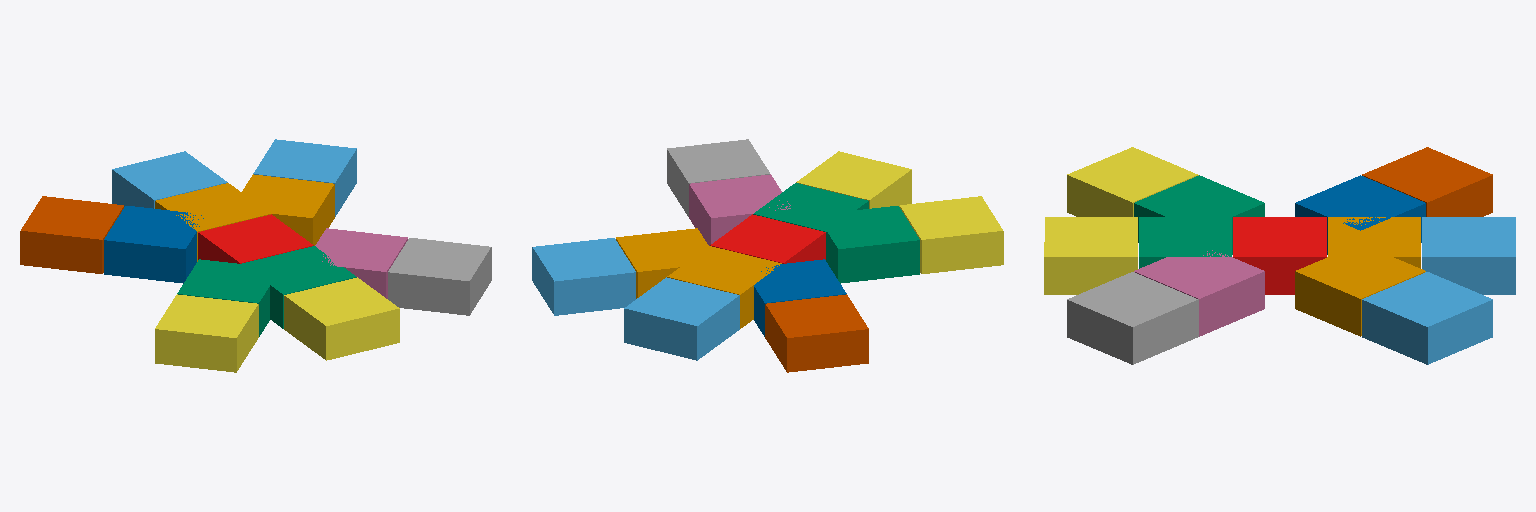
The robot description file, URDF, robot "rob":
<?xml version='1.0' encoding='UTF-8'?>
<robot name="rob">
  <link name="set1_arm1">
    <inertial>
      <origin xyz="0.0 0.34 0.0" rpy="0.0 0.0 0.0"/>
      <mass value="1.0"/>
      <inertia ixx="0.0" ixy="0.0" ixz="0.0" iyy="0.0" iyz="0.0" izz="0.0"/>
    </inertial>
    <visual>
      <geometry>
        <box size="0.67 0.67 0.3 "/>
      </geometry>
      <origin xyz="0.0 0.34 0.0" rpy="0.0 0.0 0.0"/>
    </visual>
    <collision>
      <geometry>
        <box size="0.67 0.67 0.3 "/>
      </geometry>
      <origin xyz="0.0 0.34 0.0" rpy="0.0 0.0 0.0"/>
    </collision>
  </link>
  <link name="set1_arm2">
    <inertial>
      <origin xyz="0.0 0.34 0.0" rpy="0.0 0.0 0.0"/>
      <mass value="1.0"/>
      <inertia ixx="0.0" ixy="0.0" ixz="0.0" iyy="0.0" iyz="0.0" izz="0.0"/>
    </inertial>
    <visual>
      <geometry>
        <box size="0.67 0.67 0.3 "/>
      </geometry>
      <origin xyz="0.0 0.34 0.0" rpy="0.0 0.0 0.0"/>
    </visual>
    <collision>
      <geometry>
        <box size="0.67 0.67 0.3 "/>
      </geometry>
      <origin xyz="0.0 0.34 0.0" rpy="0.0 0.0 0.0"/>
    </collision>
  </link>
  <link name="set2_arm1">
    <inertial>
      <origin xyz="0.0 0.34 0.0" rpy="0.0 0.0 0.0"/>
      <mass value="1.0"/>
      <inertia ixx="0.0" ixy="0.0" ixz="0.0" iyy="0.0" iyz="0.0" izz="0.0"/>
    </inertial>
    <visual>
      <geometry>
        <box size="0.67 0.67 0.3 "/>
      </geometry>
      <origin xyz="0.0 0.34 0.0" rpy="0.0 0.0 0.0"/>
    </visual>
    <collision>
      <geometry>
        <box size="0.67 0.67 0.3 "/>
      </geometry>
      <origin xyz="0.0 0.34 0.0" rpy="0.0 0.0 0.0"/>
    </collision>
  </link>
  <link name="set2_arm2">
    <inertial>
      <origin xyz="0.0 0.34 0.0" rpy="0.0 0.0 0.0"/>
      <mass value="1.0"/>
      <inertia ixx="0.0" ixy="0.0" ixz="0.0" iyy="0.0" iyz="0.0" izz="0.0"/>
    </inertial>
    <visual>
      <geometry>
        <box size="0.67 0.67 0.3 "/>
      </geometry>
      <origin xyz="0.0 0.34 0.0" rpy="0.0 0.0 0.0"/>
    </visual>
    <collision>
      <geometry>
        <box size="0.67 0.67 0.3 "/>
      </geometry>
      <origin xyz="0.0 0.34 0.0" rpy="0.0 0.0 0.0"/>
    </collision>
  </link>
  <link name="set5_arm1">
    <inertial>
      <origin xyz="0.0 0.34 0.0" rpy="0.0 0.0 0.0"/>
      <mass value="1.0"/>
      <inertia ixx="0.0" ixy="0.0" ixz="0.0" iyy="0.0" iyz="0.0" izz="0.0"/>
    </inertial>
    <visual>
      <geometry>
        <box size="0.67 0.67 0.3 "/>
      </geometry>
      <origin xyz="0.0 0.34 0.0" rpy="0.0 0.0 0.0"/>
    </visual>
    <collision>
      <geometry>
        <box size="0.67 0.67 0.3 "/>
      </geometry>
      <origin xyz="0.0 0.34 0.0" rpy="0.0 0.0 0.0"/>
    </collision>
  </link>
  <link name="set5_arm2">
    <inertial>
      <origin xyz="0.0 0.34 0.0" rpy="0.0 0.0 0.0"/>
      <mass value="1.0"/>
      <inertia ixx="0.0" ixy="0.0" ixz="0.0" iyy="0.0" iyz="0.0" izz="0.0"/>
    </inertial>
    <visual>
      <geometry>
        <box size="0.67 0.67 0.3 "/>
      </geometry>
      <origin xyz="0.0 0.34 0.0" rpy="0.0 0.0 0.0"/>
    </visual>
    <collision>
      <geometry>
        <box size="0.67 0.67 0.3 "/>
      </geometry>
      <origin xyz="0.0 0.34 0.0" rpy="0.0 0.0 0.0"/>
    </collision>
  </link>
  <link name="set6_arm1">
    <inertial>
      <origin xyz="0.0 0.34 0.0" rpy="0.0 0.0 0.0"/>
      <mass value="1.0"/>
      <inertia ixx="0.0" ixy="0.0" ixz="0.0" iyy="0.0" iyz="0.0" izz="0.0"/>
    </inertial>
    <visual>
      <geometry>
        <box size="0.67 0.67 0.3 "/>
      </geometry>
      <origin xyz="0.0 0.34 0.0" rpy="0.0 0.0 0.0"/>
    </visual>
    <collision>
      <geometry>
        <box size="0.67 0.67 0.3 "/>
      </geometry>
      <origin xyz="0.0 0.34 0.0" rpy="0.0 0.0 0.0"/>
    </collision>
  </link>
  <link name="set6_arm2">
    <inertial>
      <origin xyz="0.0 0.34 0.0" rpy="0.0 0.0 0.0"/>
      <mass value="1.0"/>
      <inertia ixx="0.0" ixy="0.0" ixz="0.0" iyy="0.0" iyz="0.0" izz="0.0"/>
    </inertial>
    <visual>
      <geometry>
        <box size="0.67 0.67 0.3 "/>
      </geometry>
      <origin xyz="0.0 0.34 0.0" rpy="0.0 0.0 0.0"/>
    </visual>
    <collision>
      <geometry>
        <box size="0.67 0.67 0.3 "/>
      </geometry>
      <origin xyz="0.0 0.34 0.0" rpy="0.0 0.0 0.0"/>
    </collision>
  </link>
  <link name="set7_arm1">
    <inertial>
      <origin xyz="0.0 0.34 0.0" rpy="0.0 0.0 0.0"/>
      <mass value="1.0"/>
      <inertia ixx="0.0" ixy="0.0" ixz="0.0" iyy="0.0" iyz="0.0" izz="0.0"/>
    </inertial>
    <visual>
      <geometry>
        <box size="0.67 0.67 0.3 "/>
      </geometry>
      <origin xyz="0.0 0.34 0.0" rpy="0.0 0.0 0.0"/>
    </visual>
    <collision>
      <geometry>
        <box size="0.67 0.67 0.3 "/>
      </geometry>
      <origin xyz="0.0 0.34 0.0" rpy="0.0 0.0 0.0"/>
    </collision>
  </link>
  <link name="set7_arm2">
    <inertial>
      <origin xyz="0.0 0.34 0.0" rpy="0.0 0.0 0.0"/>
      <mass value="1.0"/>
      <inertia ixx="0.0" ixy="0.0" ixz="0.0" iyy="0.0" iyz="0.0" izz="0.0"/>
    </inertial>
    <visual>
      <geometry>
        <box size="0.67 0.67 0.3 "/>
      </geometry>
      <origin xyz="0.0 0.34 0.0" rpy="0.0 0.0 0.0"/>
    </visual>
    <collision>
      <geometry>
        <box size="0.67 0.67 0.3 "/>
      </geometry>
      <origin xyz="0.0 0.34 0.0" rpy="0.0 0.0 0.0"/>
    </collision>
  </link>
  <link name="set8_arm1">
    <inertial>
      <origin xyz="0.0 0.34 0.0" rpy="0.0 0.0 0.0"/>
      <mass value="1.0"/>
      <inertia ixx="0.0" ixy="0.0" ixz="0.0" iyy="0.0" iyz="0.0" izz="0.0"/>
    </inertial>
    <visual>
      <geometry>
        <box size="0.67 0.67 0.3 "/>
      </geometry>
      <origin xyz="0.0 0.34 0.0" rpy="0.0 0.0 0.0"/>
    </visual>
    <collision>
      <geometry>
        <box size="0.67 0.67 0.3 "/>
      </geometry>
      <origin xyz="0.0 0.34 0.0" rpy="0.0 0.0 0.0"/>
    </collision>
  </link>
  <link name="set8_arm2">
    <inertial>
      <origin xyz="0.0 0.34 0.0" rpy="0.0 0.0 0.0"/>
      <mass value="1.0"/>
      <inertia ixx="0.0" ixy="0.0" ixz="0.0" iyy="0.0" iyz="0.0" izz="0.0"/>
    </inertial>
    <visual>
      <geometry>
        <box size="0.67 0.67 0.3 "/>
      </geometry>
      <origin xyz="0.0 0.34 0.0" rpy="0.0 0.0 0.0"/>
    </visual>
    <collision>
      <geometry>
        <box size="0.67 0.67 0.3 "/>
      </geometry>
      <origin xyz="0.0 0.34 0.0" rpy="0.0 0.0 0.0"/>
    </collision>
  </link>
  <link name="base_link">
    <inertial>
      <origin xyz="0.0 0.0 0.0" rpy="0.0 -0.0 0.0"/>
      <mass value="1.0"/>
      <inertia ixx="1.0" ixy="0.0" ixz="0.0" iyy="1.0" iyz="0.0" izz="1.0"/>
    </inertial>
    <visual>
      <geometry>
        <box size="0.67 0.67 0.3 "/>
      </geometry>
      <material name="red"/>
      <origin xyz="0.0 0.0 0.0" rpy="0.0 -0.0 0.0"/>
    </visual>
    <collision>
      <geometry>
        <box size="0.67 0.67 0.3 "/>
      </geometry>
      <origin xyz="0.0 0.0 0.0" rpy="0.0 0.0 0.0"/>
    </collision>
  </link>
  <joint name="set1_jointBase" type="fixed">
    <limit effort="1.57" velocity="1.57" lower="-1.57" upper="1.57"/>
    <parent link="base_link"/>
    <child link="set1_arm1"/>
    <axis xyz="1. 0. 0."/>
    <origin xyz="0.0 0.34 0.0" rpy="0.0 0.0 0.0"/>
  </joint>
  <joint name="set1_joint1" type="revolute">
    <limit effort="1.57" velocity="1.57" lower="-1.57" upper="1.57"/>
    <parent link="set1_arm1"/>
    <child link="set1_arm2"/>
    <axis xyz="1. 0. 0."/>
    <origin xyz="0.0 0.68 0.0" rpy="0.0 0.0 0.0"/>
  </joint>
  <joint name="set2_jointBase" type="fixed">
    <limit effort="1.57" velocity="1.57" lower="-1.57" upper="1.57"/>
    <parent link="base_link"/>
    <child link="set2_arm1"/>
    <axis xyz="1. 0. 0."/>
    <origin xyz="0.0 -0.34 0.0" rpy="0.0 0.0 3.141"/>
  </joint>
  <joint name="set2_joint1" type="revolute">
    <limit effort="1.57" velocity="1.57" lower="-1.57" upper="1.57"/>
    <parent link="set2_arm1"/>
    <child link="set2_arm2"/>
    <axis xyz="1. 0. 0."/>
    <origin xyz="0.0 0.68 0.0" rpy="0.0 0.0 0.0"/>
  </joint>
  <joint name="set5_jointBase" type="fixed">
    <limit effort="1.57" velocity="1.57" lower="-1.57" upper="1.57"/>
    <parent link="base_link"/>
    <child link="set5_arm1"/>
    <axis xyz="1. 0. 0."/>
    <origin xyz="-0.34 0.34 0.0" rpy="0.0 0.0 0.785"/>
  </joint>
  <joint name="set5_joint1" type="revolute">
    <limit effort="1.57" velocity="1.57" lower="-1.57" upper="1.57"/>
    <parent link="set5_arm1"/>
    <child link="set5_arm2"/>
    <axis xyz="1. 0. 0."/>
    <origin xyz="0.0 0.68 0.0" rpy="0.0 0.0 0.0"/>
  </joint>
  <joint name="set6_jointBase" type="fixed">
    <limit effort="1.57" velocity="1.57" lower="-1.57" upper="1.57"/>
    <parent link="base_link"/>
    <child link="set6_arm1"/>
    <axis xyz="1. 0. 0."/>
    <origin xyz="0.34 -0.34 0.0" rpy="0.0 0.0 -2.355"/>
  </joint>
  <joint name="set6_joint1" type="revolute">
    <limit effort="1.57" velocity="1.57" lower="-1.57" upper="1.57"/>
    <parent link="set6_arm1"/>
    <child link="set6_arm2"/>
    <axis xyz="1. 0. 0."/>
    <origin xyz="0.0 0.68 0.0" rpy="0.0 0.0 0.0"/>
  </joint>
  <joint name="set7_jointBase" type="fixed">
    <limit effort="1.57" velocity="1.57" lower="-1.57" upper="1.57"/>
    <parent link="base_link"/>
    <child link="set7_arm1"/>
    <axis xyz="1. 0. 0."/>
    <origin xyz="0.34 0.34 0.0" rpy="0.0 0.0 -0.785"/>
  </joint>
  <joint name="set7_joint1" type="revolute">
    <limit effort="1.57" velocity="1.57" lower="-1.57" upper="1.57"/>
    <parent link="set7_arm1"/>
    <child link="set7_arm2"/>
    <axis xyz="1. 0. 0."/>
    <origin xyz="0.0 0.68 0.0" rpy="0.0 0.0 0.0"/>
  </joint>
  <joint name="set8_jointBase" type="fixed">
    <limit effort="1.57" velocity="1.57" lower="-1.57" upper="1.57"/>
    <parent link="base_link"/>
    <child link="set8_arm1"/>
    <axis xyz="1. 0. 0."/>
    <origin xyz="-0.34 -0.34 0.0" rpy="0.0 0.0 2.355"/>
  </joint>
  <joint name="set8_joint1" type="revolute">
    <limit effort="1.57" velocity="1.57" lower="-1.57" upper="1.57"/>
    <parent link="set8_arm1"/>
    <child link="set8_arm2"/>
    <axis xyz="1. 0. 0."/>
    <origin xyz="0.0 0.68 0.0" rpy="0.0 0.0 0.0"/>
  </joint>
  <material name="red">
    <color rgba="0.969 0.129 0.122 1.   "/>
  </material>
</robot>

--- What the picture shows (computed from the rendered views, not written in the file) ---
3 views of the same robot in one strip: view 1: azimuth 30°, elevation 25°; view 2: azimuth 150°, elevation 25°; view 3: azimuth 270°, elevation 25° (orthographic).
Robot: rob — 13 links, 12 joints (6 revolute, 6 fixed); root link base_link; default pose: every joint at zero.
Links seen in each view (by area): view 1: set2_arm2, set8_arm2, set6_arm2, set5_arm1, set5_arm2, set7_arm1, set1_arm2, set7_arm2, base_link, set2_arm1, set6_arm1, set8_arm1 (+1 smaller); view 2: set1_arm2, set5_arm2, set7_arm2, set8_arm1, set8_arm2, set2_arm2, set6_arm1, set6_arm2, set7_arm1, base_link, set1_arm1, set5_arm1 (+1 smaller); view 3: set6_arm2, set7_arm2, set1_arm2, set2_arm2, set7_arm1, set6_arm1, set8_arm2, set5_arm2, base_link, set8_arm1, set5_arm1, set2_arm1 (+1 smaller).
Link boxes in pixels (x1,y1,x2,y2): set2_arm2: (284, 277, 399, 360); set8_arm2: (155, 294, 258, 372); set6_arm2: (388, 238, 491, 315); set5_arm1: (104, 206, 203, 283); set5_arm2: (20, 196, 123, 273); set7_arm1: (232, 174, 334, 245); set1_arm2: (112, 151, 227, 208); set7_arm2: (253, 139, 356, 216); base_link: (198, 214, 313, 263); set2_arm1: (242, 246, 356, 328); set6_arm1: (315, 228, 407, 298); set8_arm1: (177, 259, 269, 336); set1_arm2: (624, 277, 739, 360); set5_arm2: (765, 294, 868, 372); set7_arm2: (532, 238, 635, 315); set8_arm1: (817, 206, 919, 283); set8_arm2: (900, 196, 1003, 273); set2_arm2: (796, 151, 911, 208); set6_arm1: (689, 174, 790, 245); set6_arm2: (667, 139, 769, 216); set7_arm1: (616, 228, 718, 298); base_link: (710, 214, 825, 263); set1_arm1: (667, 246, 781, 328); set5_arm1: (754, 259, 846, 336); set6_arm2: (1067, 272, 1198, 364); set7_arm2: (1362, 272, 1492, 364); set1_arm2: (1422, 217, 1515, 294); set2_arm2: (1044, 217, 1137, 294); set7_arm1: (1295, 243, 1425, 336); set6_arm1: (1134, 250, 1264, 336); set8_arm2: (1067, 147, 1198, 216); set5_arm2: (1362, 147, 1492, 216); base_link: (1233, 217, 1326, 294); set8_arm1: (1134, 175, 1264, 254); set5_arm1: (1295, 175, 1425, 254); set2_arm1: (1139, 217, 1231, 268).
Bounding box of the posed robot: 3.07 × 3.39 × 0.3 m (x, y, z).
Geometry: primitives only (box / cylinder / sphere), no mesh files.